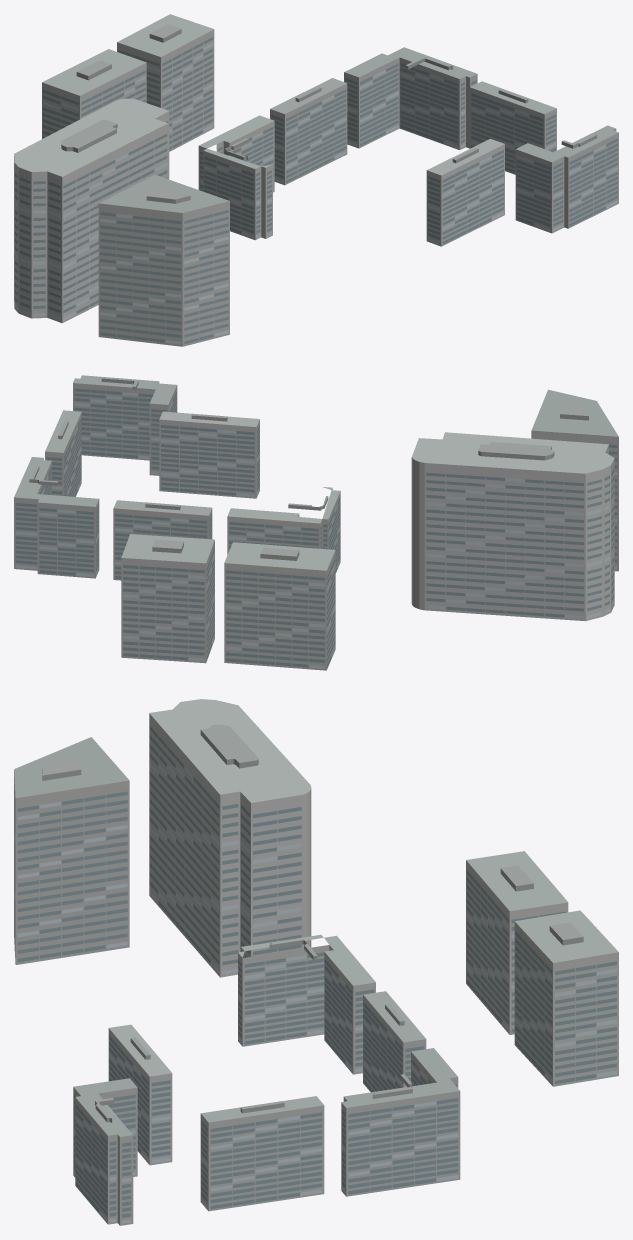
Rendered from apt-a13552001.glb.
3 renders of one model, top to bottom at view 1: azimuth 30°, elevation 25°; view 2: azimuth 150°, elevation 25°; view 3: azimuth 270°, elevation 25°, orthographic. The views are drawn at different scales.
Parts seen in each view (by area): view 1: apt-a13552001; view 2: apt-a13552001; view 3: apt-a13552001.
Boxes of the visible parts, left/top/right/bottom form: apt-a13552001: left=14, top=14, right=618, bottom=346; apt-a13552001: left=14, top=375, right=618, bottom=670; apt-a13552001: left=14, top=699, right=618, bottom=1225.
Bounding box in the file's own units: 325 × 83 × 242.
